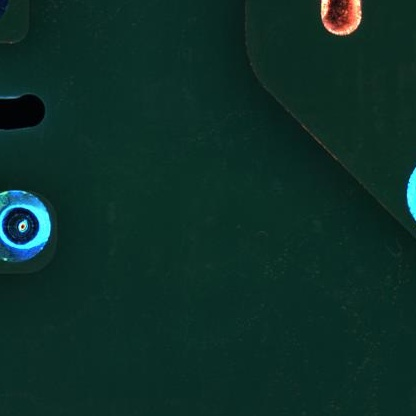spot: (1, 190, 52, 262)
